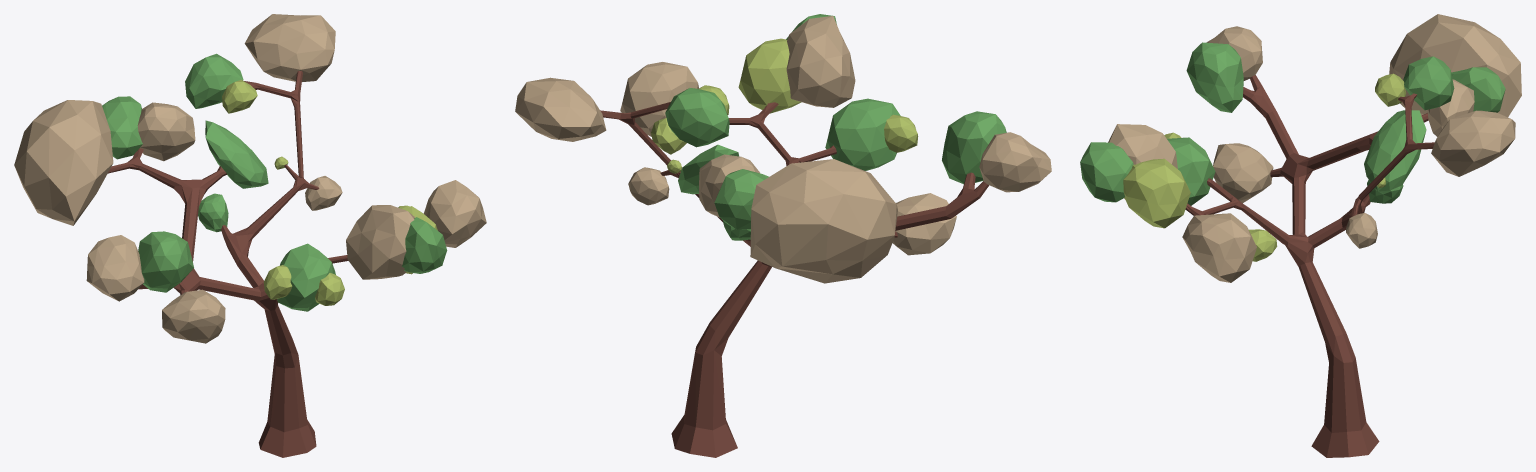
The model's file is Trees.fbx.
3 views of the same model, side by side, from view 1: azimuth 30°, elevation 25°; view 2: azimuth 150°, elevation 25°; view 3: azimuth 270°, elevation 25° (orthographic). The views are drawn at different scales.
Parts seen in each view (by area): view 1: Tree, Icosphere.010, Icosphere.018, Icosphere.003, Icosphere.008, Iscosphere, Icosphere.013, Icosphere.011, Icosphere.009, Icosphere.014, Icosphere.005, Icosphere.020 (+7 smaller); view 2: Icosphere.010, Tree, Icosphere.003, Icosphere.018, Icosphere.005, Icosphere.008, Icosphere.002, Iscosphere, Icosphere.009, Icosphere.020, Icosphere.013, Icosphere.012 (+5 smaller); view 3: Tree, Icosphere.010, Icosphere.018, Iscosphere, Icosphere.002, Icosphere.009, Icosphere.014, Icosphere.013, Icosphere.004, Icosphere.020, Icosphere.003, Icosphere.005 (+6 smaller).
Part boxes in pixels (x1,y1,x2,y2): Tree: (108, 70, 348, 457); Icosphere.010: (14, 100, 113, 225); Icosphere.018: (244, 14, 335, 81); Icosphere.003: (346, 205, 414, 279); Icosphere.008: (86, 235, 144, 301); Iscosphere: (423, 180, 486, 247); Icosphere.013: (162, 289, 225, 343); Icosphere.011: (137, 102, 195, 161); Icosphere.009: (138, 231, 193, 292); Icosphere.014: (205, 120, 268, 188); Icosphere.005: (277, 243, 335, 311); Icosphere.020: (185, 53, 243, 108); Icosphere.010: (750, 159, 897, 283); Tree: (600, 102, 989, 457); Icosphere.003: (786, 16, 855, 107); Icosphere.018: (515, 77, 606, 141); Icosphere.005: (825, 98, 900, 170); Icosphere.008: (979, 132, 1051, 192); Icosphere.002: (738, 38, 801, 113); Iscosphere: (620, 62, 698, 136); Icosphere.009: (942, 111, 1006, 184); Icosphere.020: (665, 88, 729, 147); Icosphere.013: (892, 193, 956, 255); Icosphere.012: (714, 169, 768, 229); Tree: (1185, 75, 1434, 457); Icosphere.010: (1389, 14, 1521, 117); Icosphere.018: (1431, 110, 1515, 176); Iscosphere: (1182, 213, 1256, 282); Icosphere.002: (1123, 158, 1190, 228); Icosphere.009: (1186, 42, 1243, 112); Icosphere.014: (1364, 110, 1426, 192); Icosphere.013: (1213, 143, 1273, 203); Icosphere.004: (1080, 142, 1133, 202); Icosphere.020: (1403, 56, 1454, 110); Icosphere.003: (1108, 124, 1177, 199); Icosphere.005: (1167, 137, 1215, 205).
Size of the model in its own units: 1591 by 1448 by 1520.
